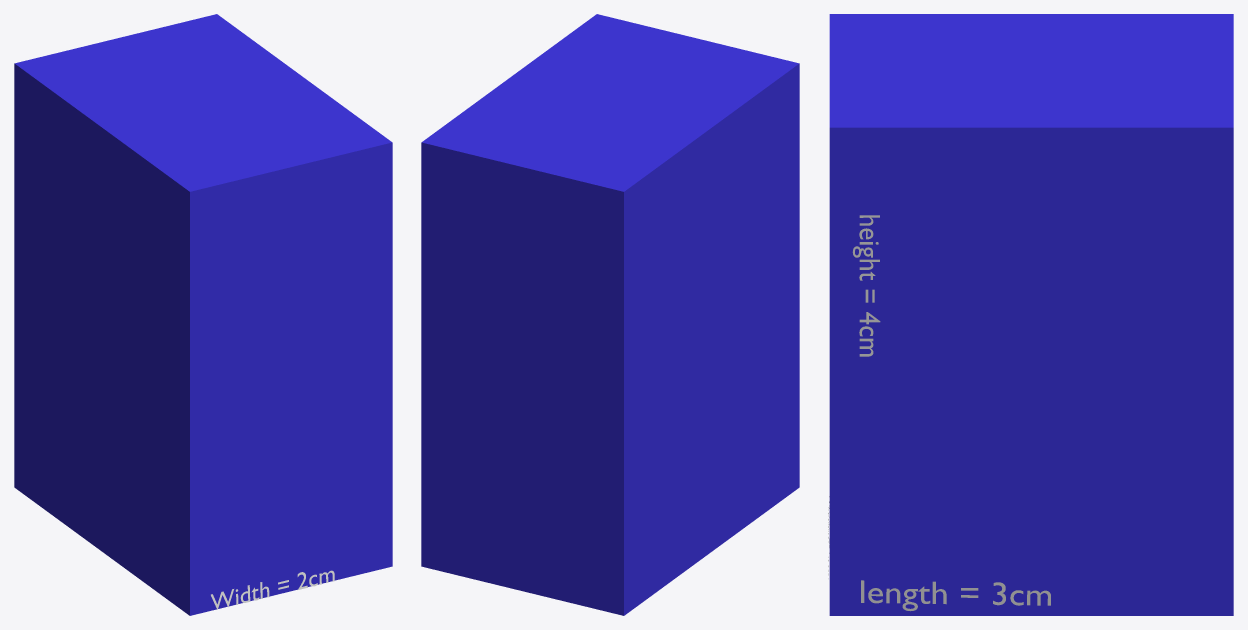
Rendered from rectang_h4_w2_l3.glb.
The picture shows the model from 3 angles, left to right: view 1: azimuth 30°, elevation 25°; view 2: azimuth 150°, elevation 25°; view 3: azimuth 270°, elevation 25°; orthographic projection. The views are drawn at different scales.
Visible parts, largest first — view 1: Cube, width; view 2: Cube; view 3: Cube, length, height.
Boxes of the visible parts, bbox=[...] form: Cube: bbox=[14, 14, 392, 615]; width: bbox=[211, 570, 334, 609]; Cube: bbox=[421, 14, 799, 615]; Cube: bbox=[829, 14, 1233, 615]; length: bbox=[861, 580, 1050, 611]; height: bbox=[852, 215, 880, 356].
Size of the model in its own units: 0.2061 by 0.4001 by 0.3012.
